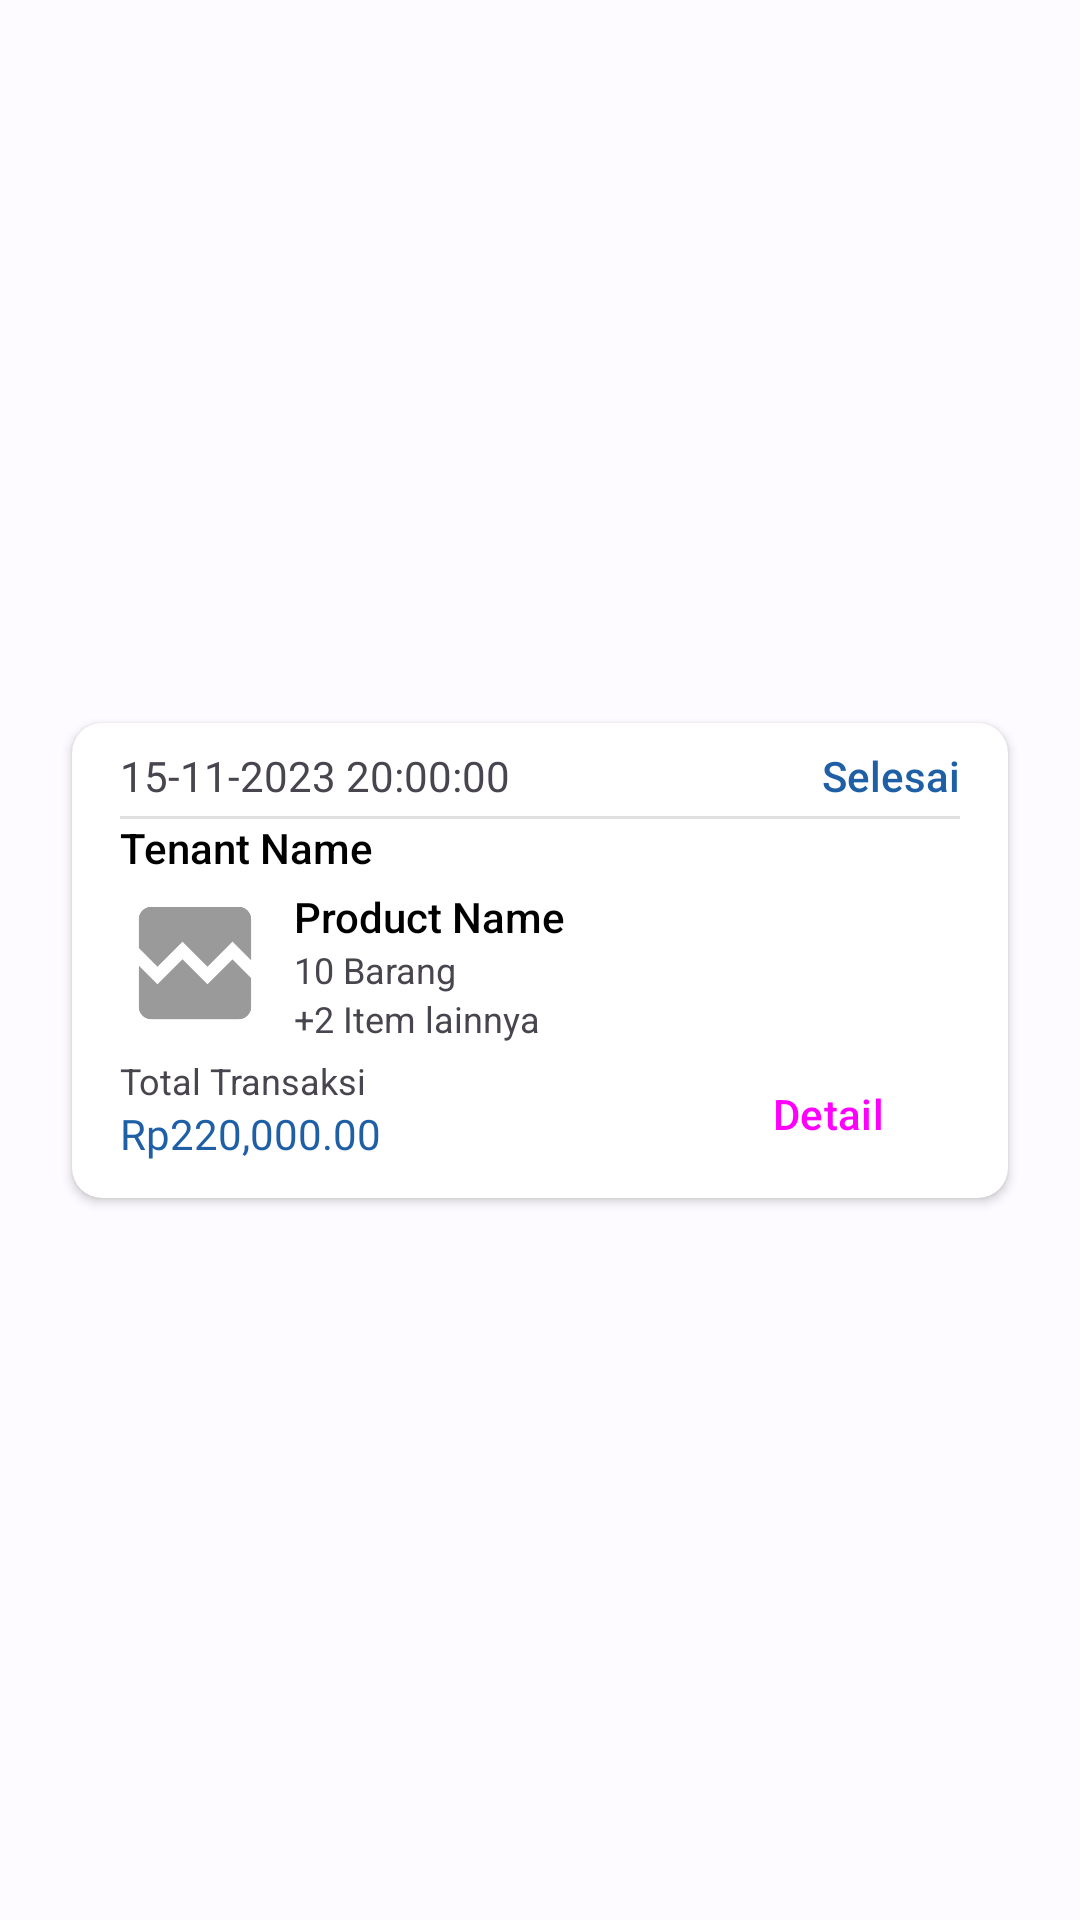

Icons on this 1080x1920 Android screen, each with the point to tap as (x,y):
broken: (195,963)
